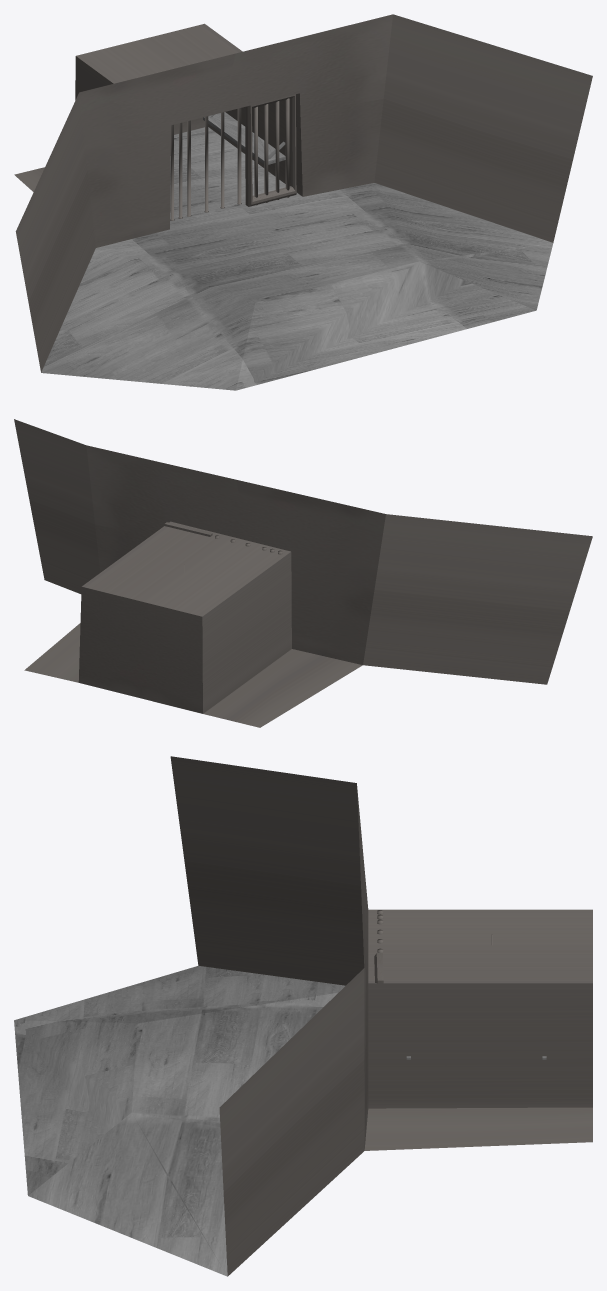
The model's file is prison.glb.
3 renders of one model, top to bottom at view 1: azimuth 30°, elevation 25°; view 2: azimuth 150°, elevation 25°; view 3: azimuth 270°, elevation 25°, orthographic. The views are drawn at different scales.
Parts seen in each view (by area): view 1: Plane, Cube; view 2: Plane; view 3: Plane.
Part boxes in pixels (left/top/right/bottom): Plane: left=14, top=14, right=592, bottom=390; Cube: left=203, top=112, right=285, bottom=164; Plane: left=14, top=419, right=592, bottom=727; Plane: left=14, top=756, right=592, bottom=1276.
Size of the model in its own units: 10.45 by 3.56 by 7.42.
3 materials, 3 textured.
